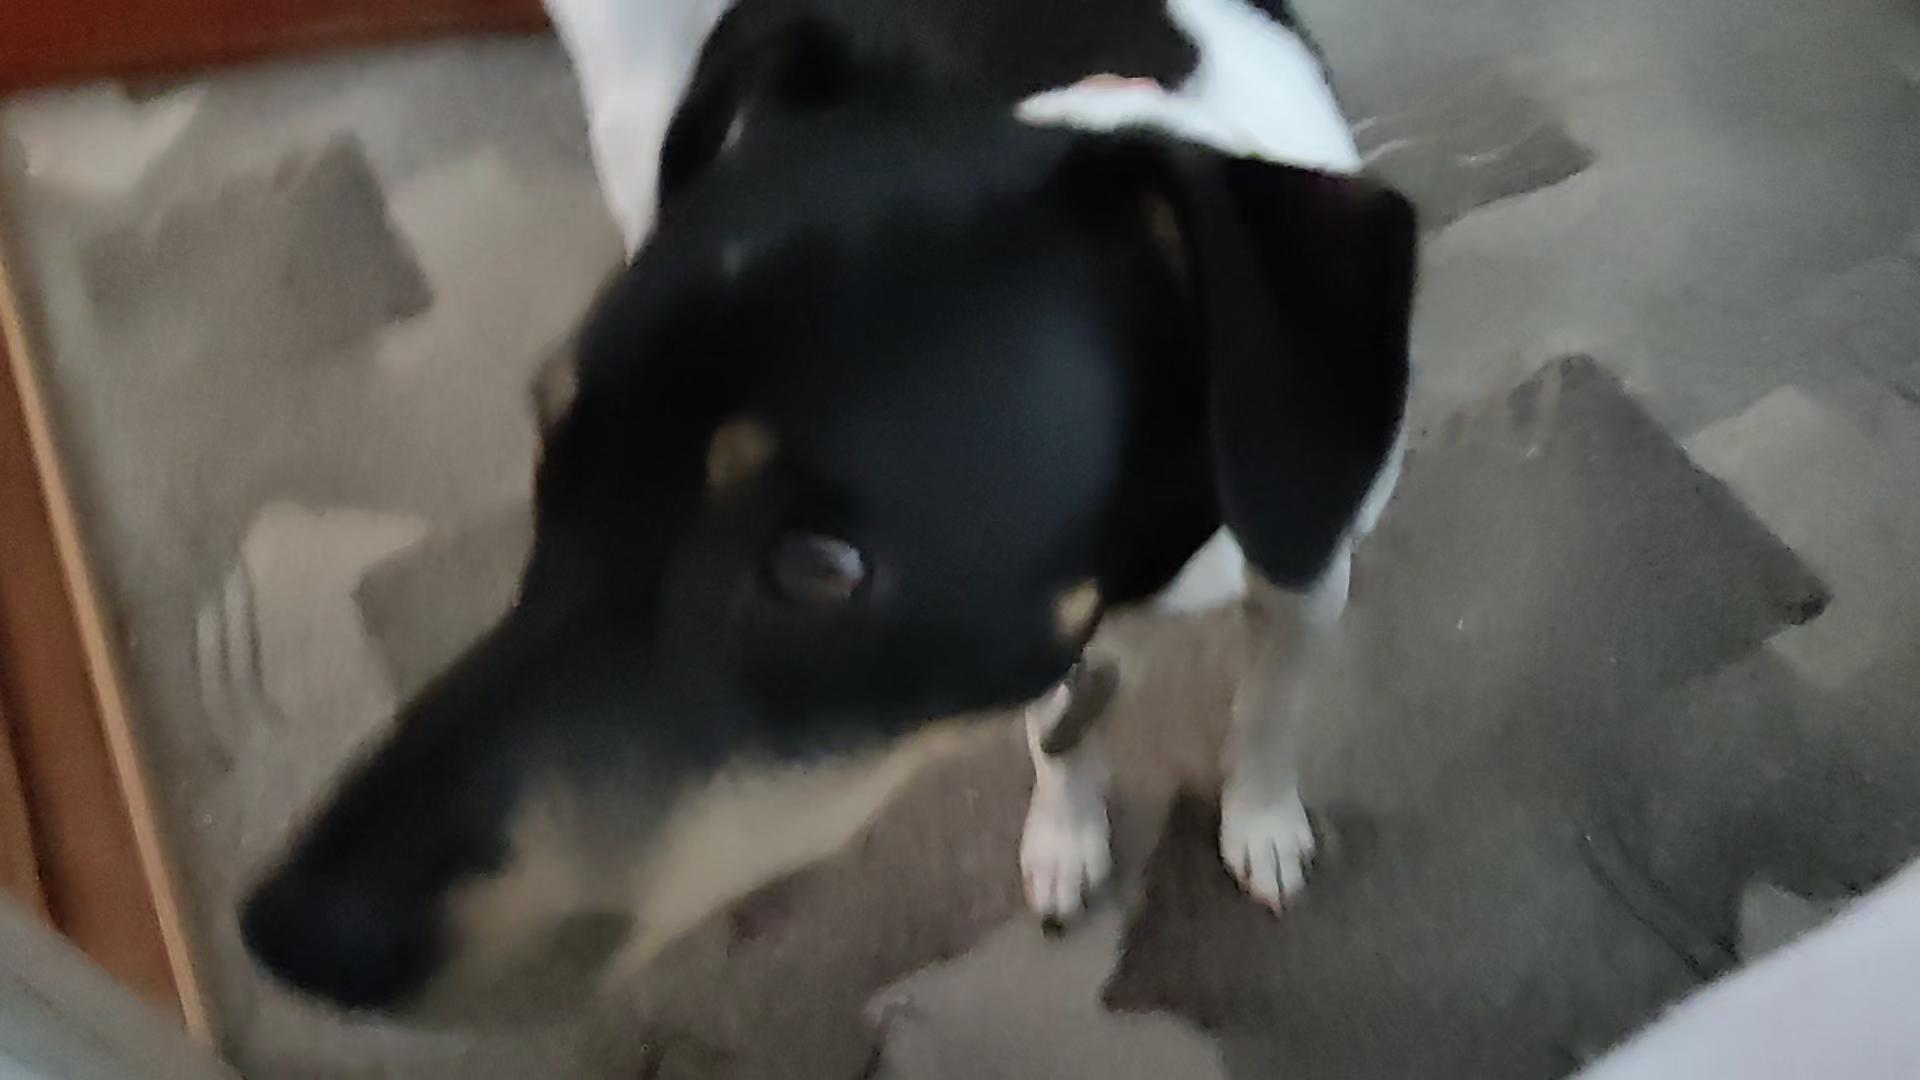Dog: (233, 0, 1423, 1079)
